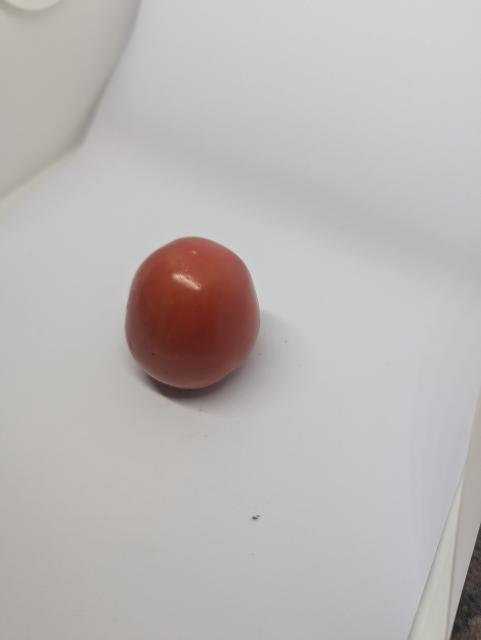red: (119, 233, 265, 398)
